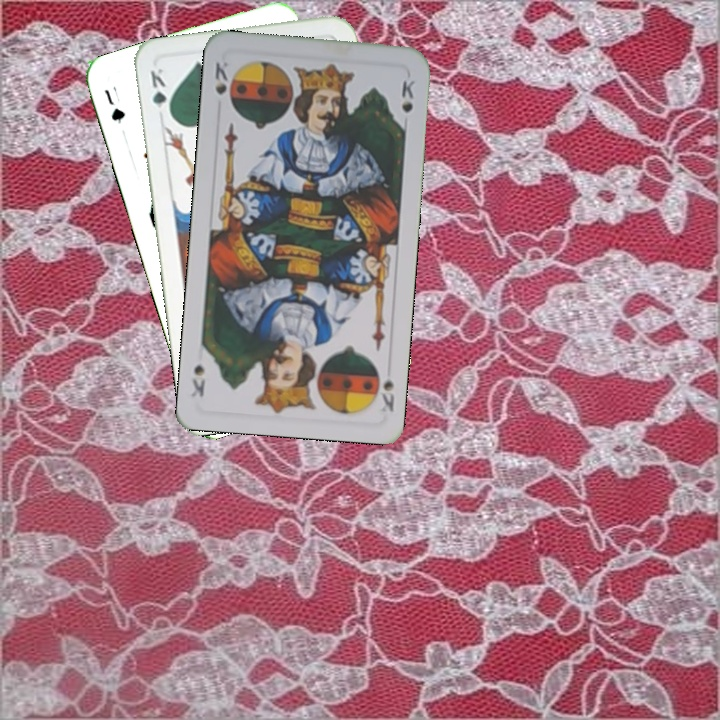GK: (146, 64, 174, 120)
GU: (100, 85, 128, 127)
SK: (370, 362, 397, 415), (211, 55, 231, 97)
